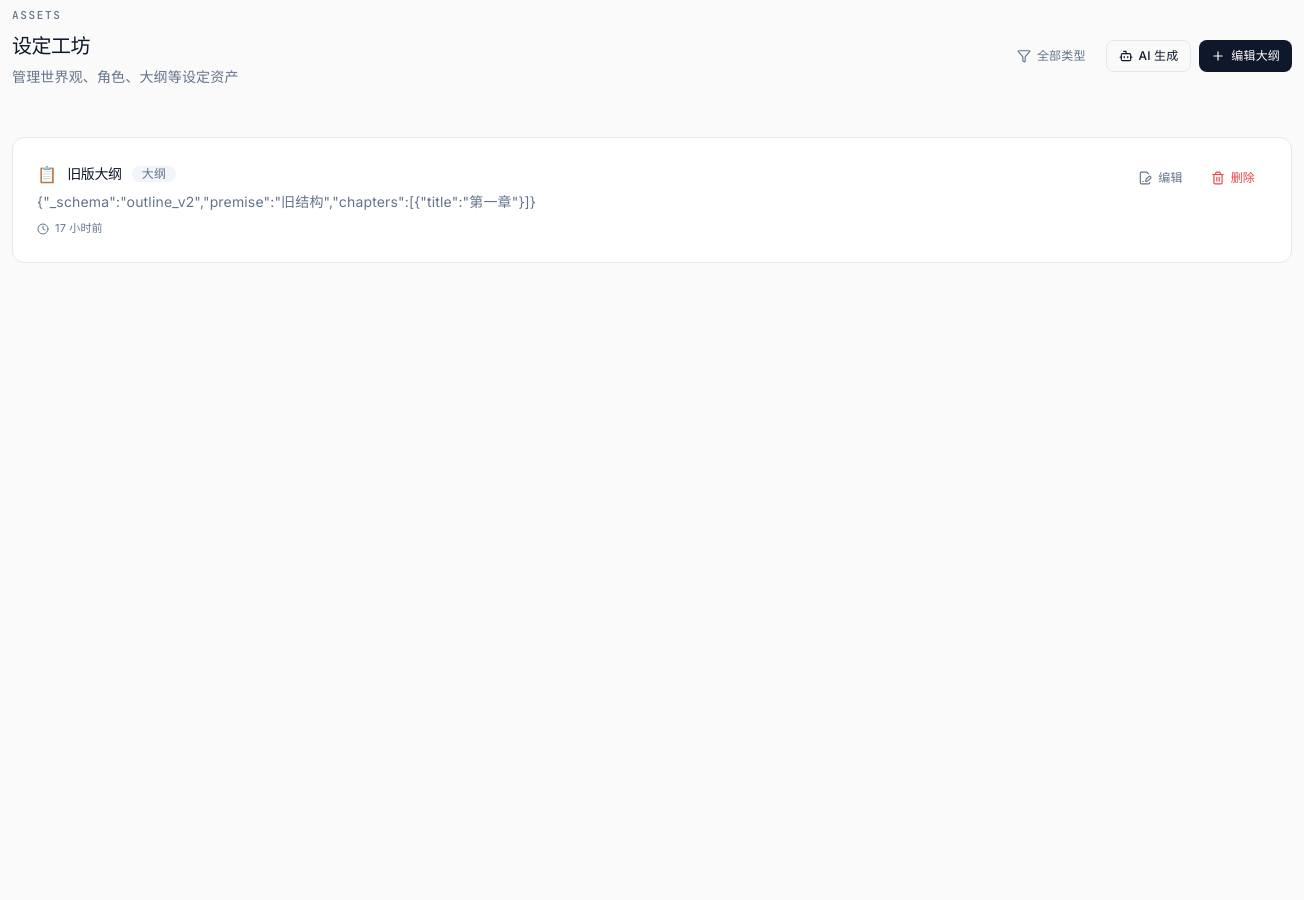
Scenario: AssetsPanel › shows an explicit repair state for invalid outline_v2 structured content
The width and height of the screenshot is (1304, 900).
Check: the heading "旧版大纲" is shown, box [67,164,122,184]
Click the button "编辑大纲" at x=1246, y=56, box [1199,40,1292,72]
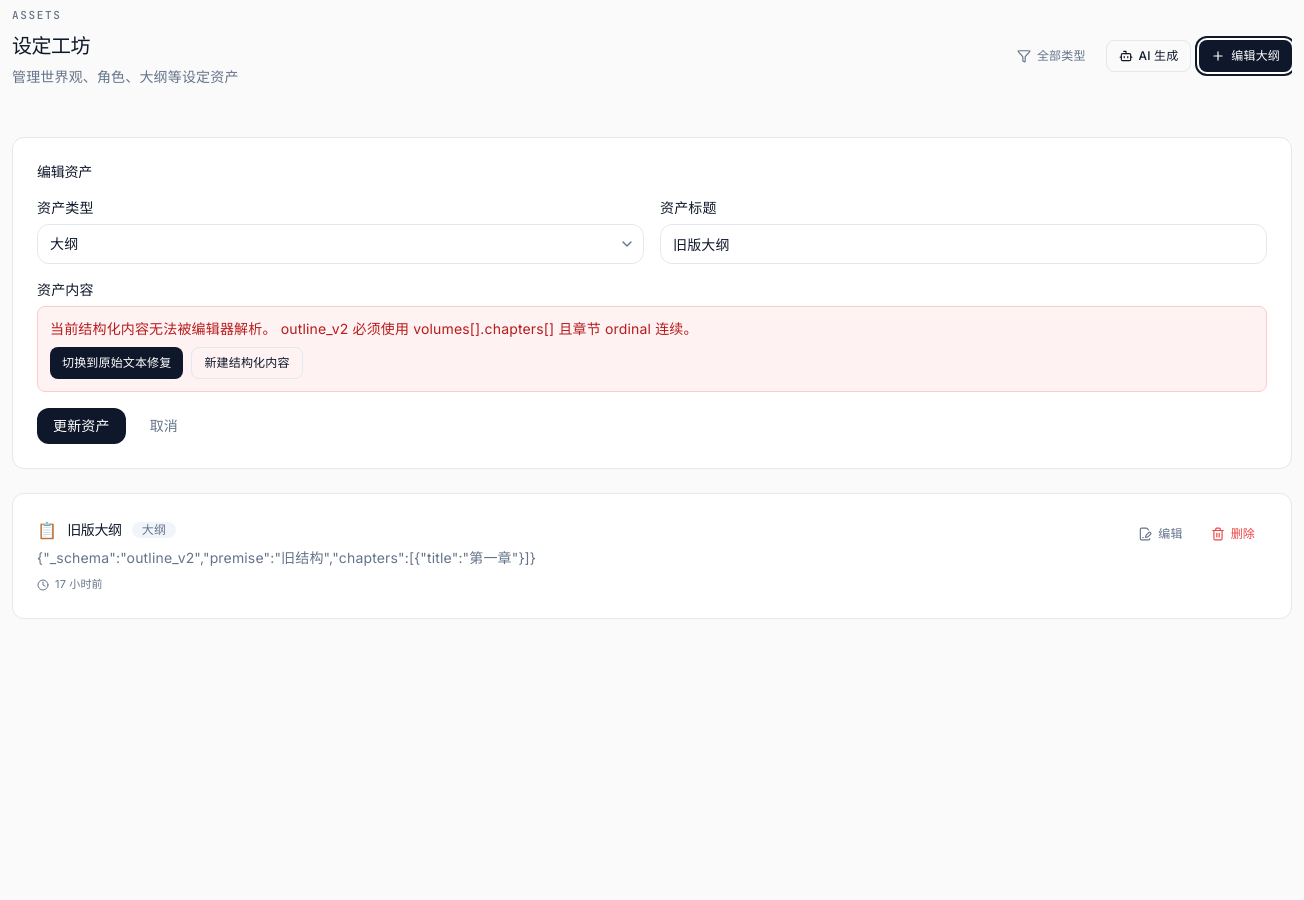
Check: the text "当前结构化内容无法被编辑器解析。 outline_v2 必须使用 volumes[].chapters[] 且章节 ordinal 连续。" is shown, box [50,320,698,337]
Check: the button "切换到原始文本修复" is shown, box [50,347,184,379]
